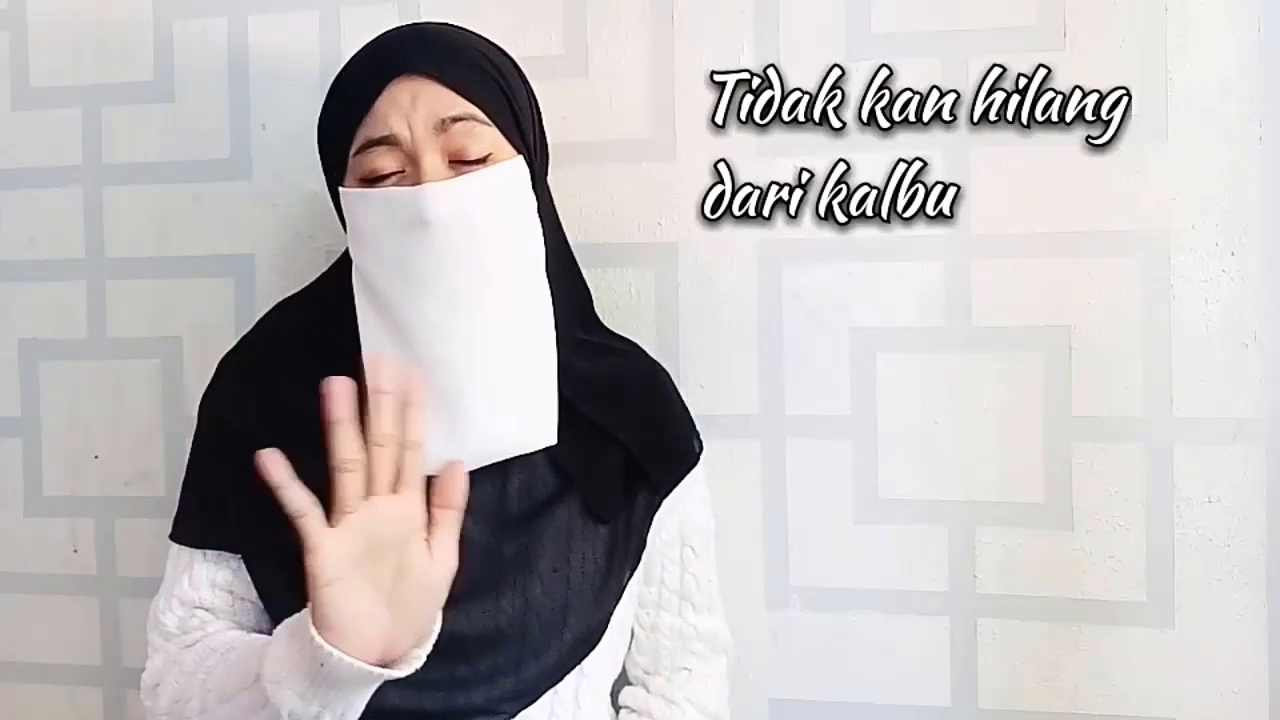TIDAK: (239, 19, 534, 686)
